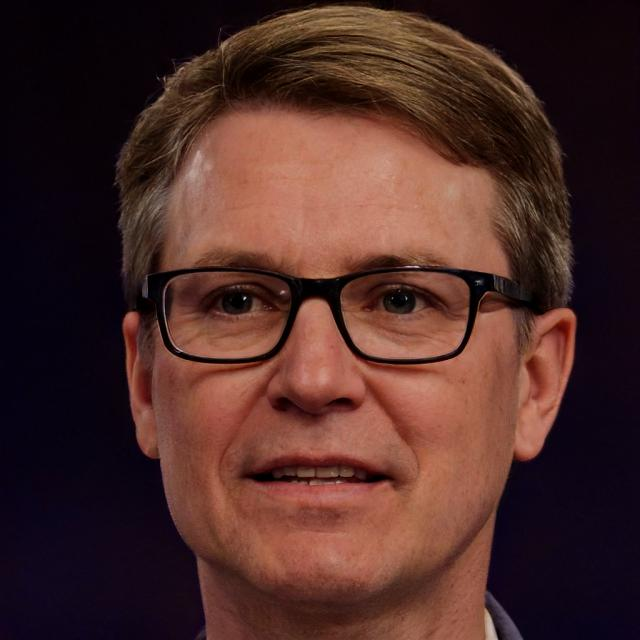lens: (341, 272, 471, 359), (164, 273, 291, 358)
